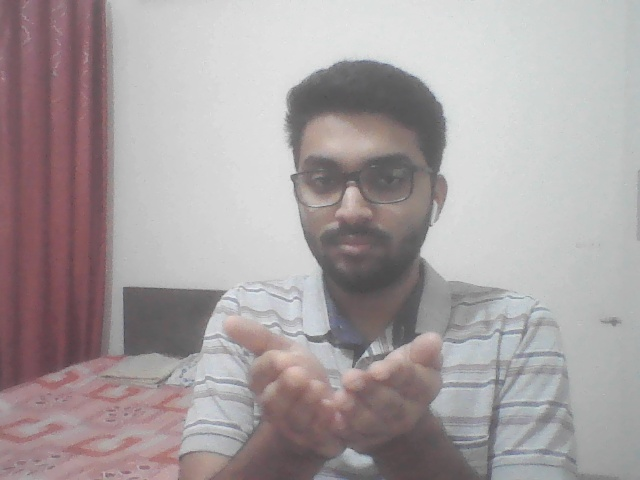book: (205, 298, 513, 468)
